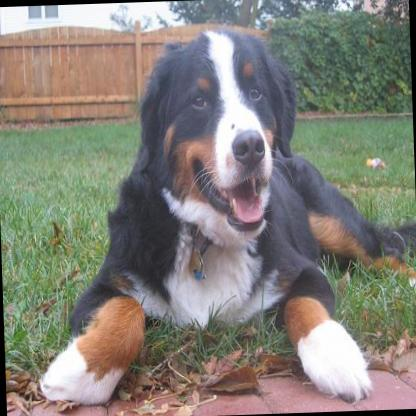Bernese_mountain_dog: (25, 20, 416, 412)
